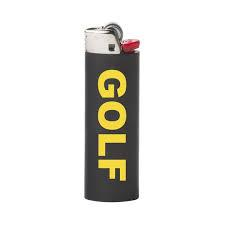lighter: (84, 19, 140, 203)
